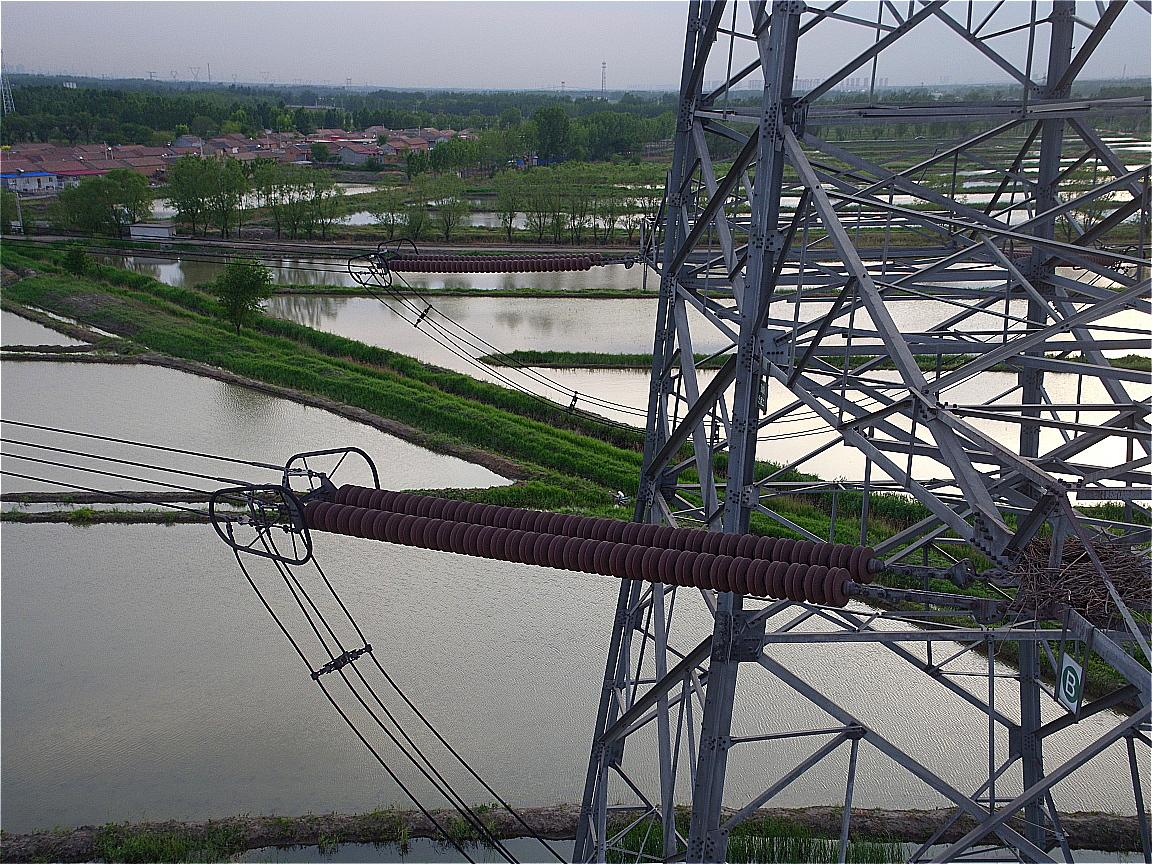insultor1: (386, 251, 604, 272)
insultor2: (306, 482, 877, 609)
